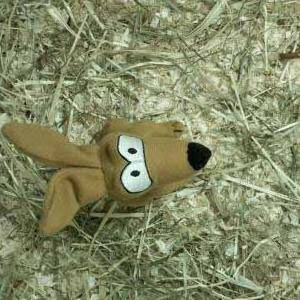dog: (4, 117, 212, 239)
